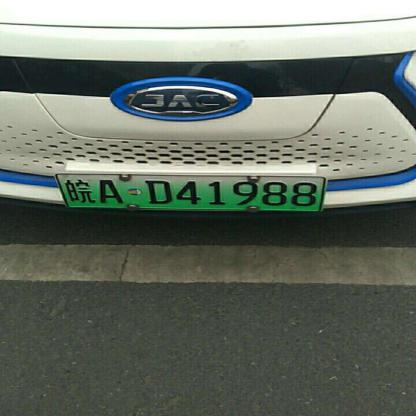lp: (58, 174, 324, 210)
